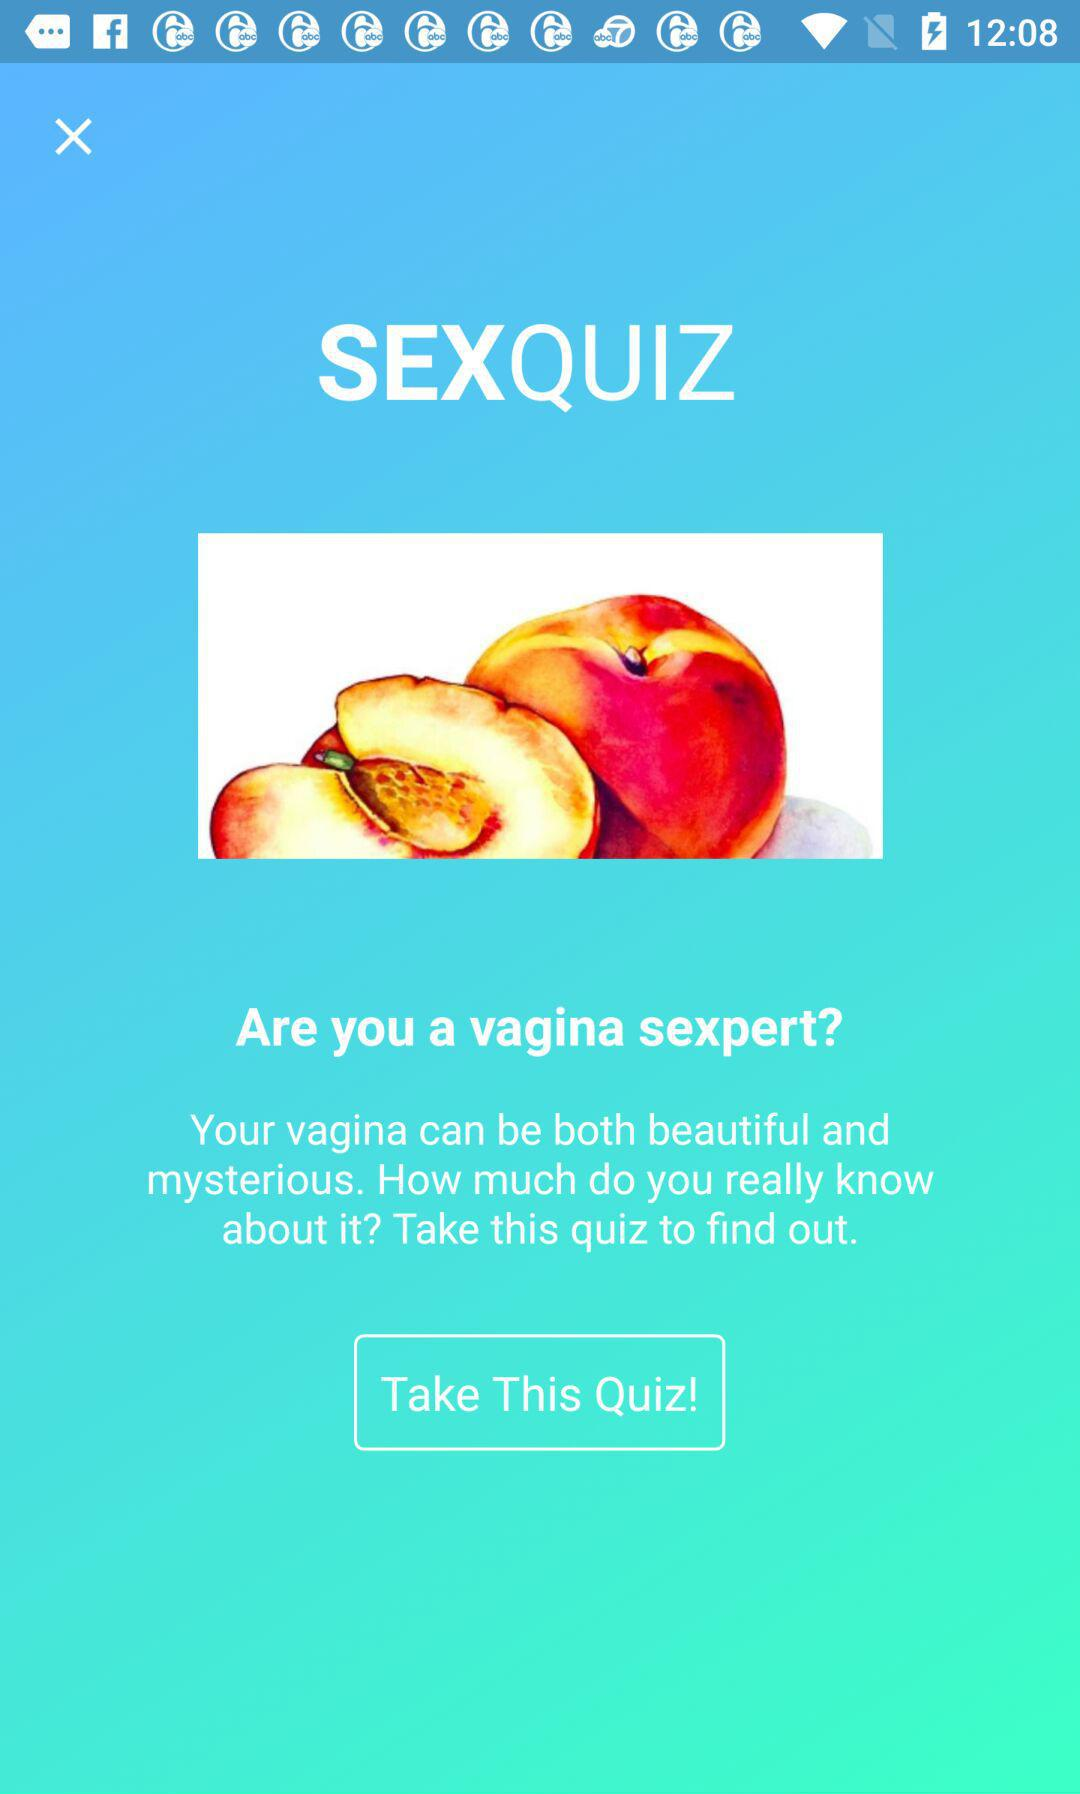Icon: (54, 118, 94, 158)
Image: (199, 532, 884, 860)
Text: (149, 1111, 937, 1255), (318, 323, 735, 415), (234, 1005, 844, 1058)
TextButton: (354, 1333, 726, 1452)
UpperTaskBar: (1, 1, 1080, 64)
